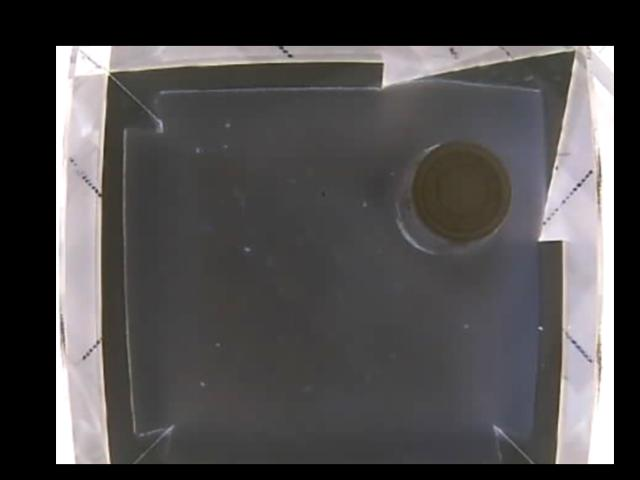Bottle: (392, 139, 512, 256)
